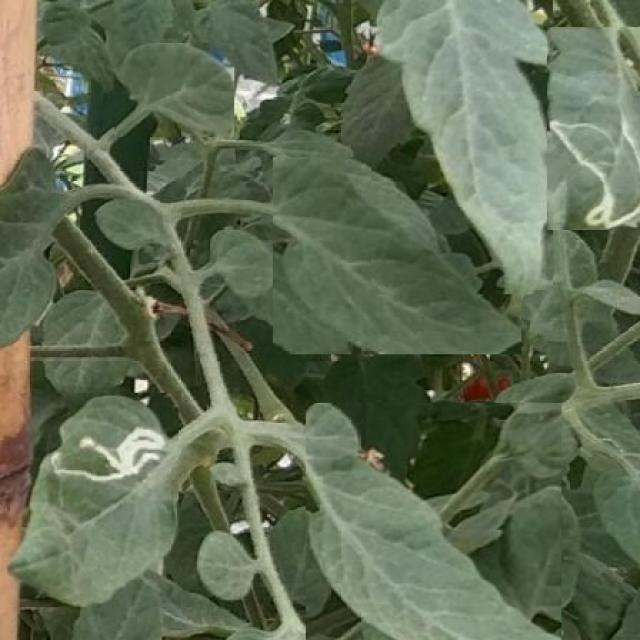Healthy: (306, 403, 561, 640), (371, 0, 552, 294), (273, 157, 521, 354), (115, 43, 235, 137)
Leaf Miner: (7, 393, 179, 607), (547, 27, 640, 230)
